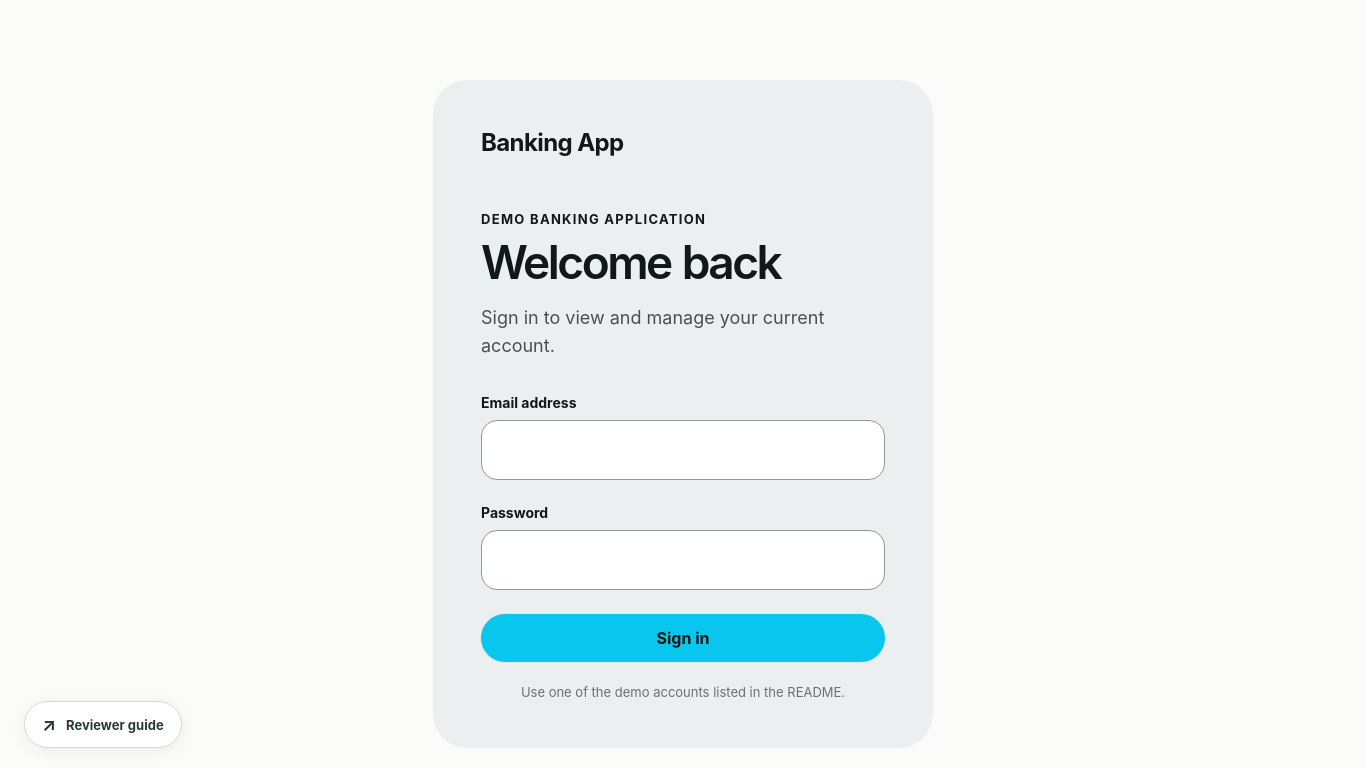
Test: Banking App client › signs in and displays the account
This screenshot has width=1366, height=768.
Expected: the heading "Welcome back" is shown, [481,234,780,290]
Type "alex.morgan@example.test" into the field labelled "Email address" at (683, 450), box [481,420,885,480]
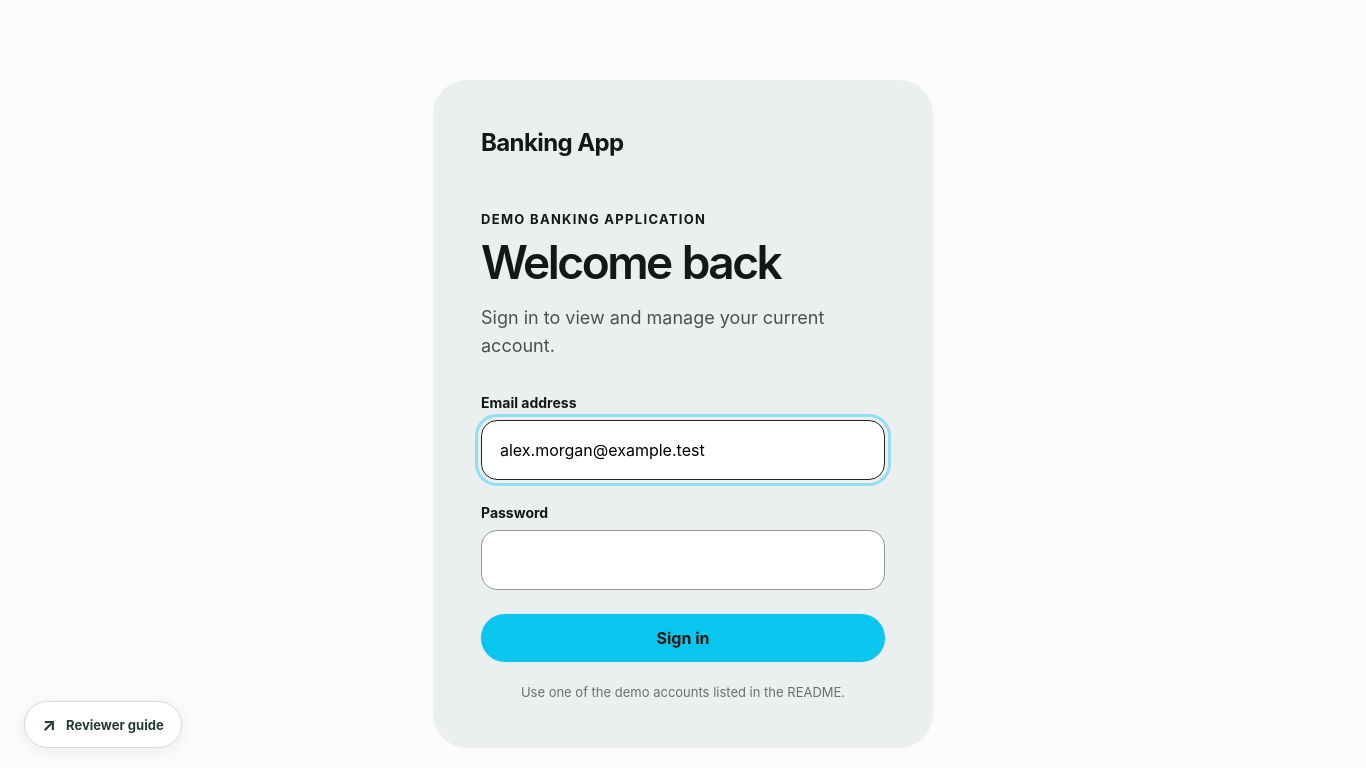
Type "Demo-Alex!2026" into the password field labelled "Password" at (683, 560), box [481,530,885,590]
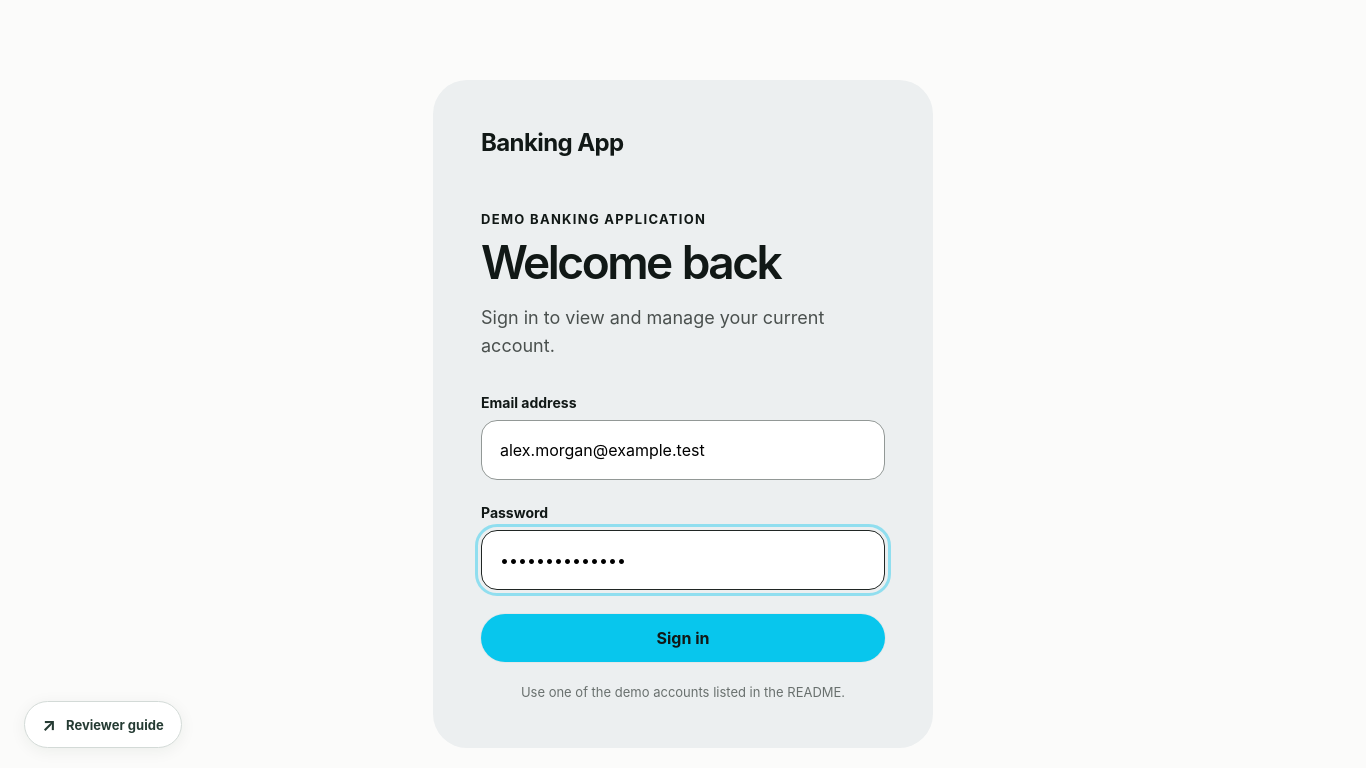
Click the button "Sign in" at (683, 638), box [481,614,885,662]
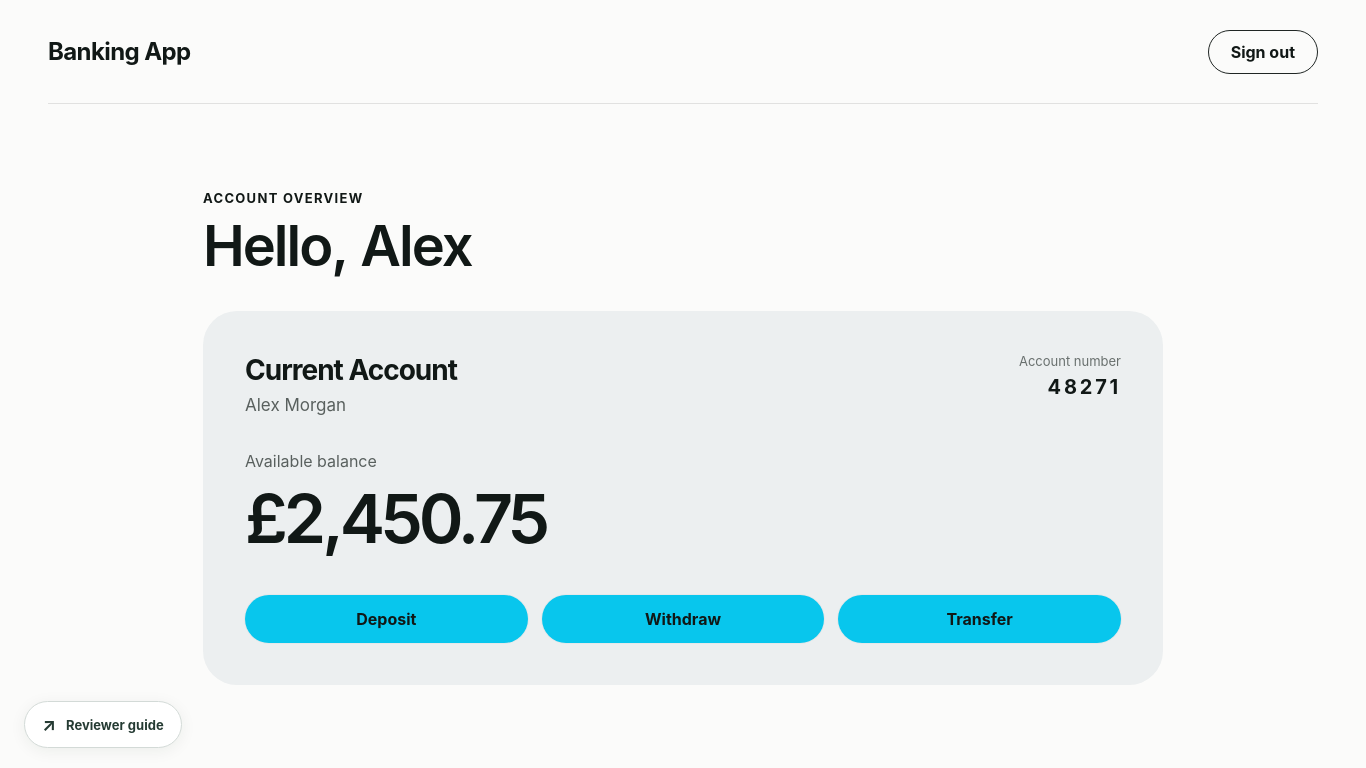
Result: the text "£2,450.75" is shown at [245,477,546,559]
Result: the text "48271" is shown at [1048,375,1121,399]
